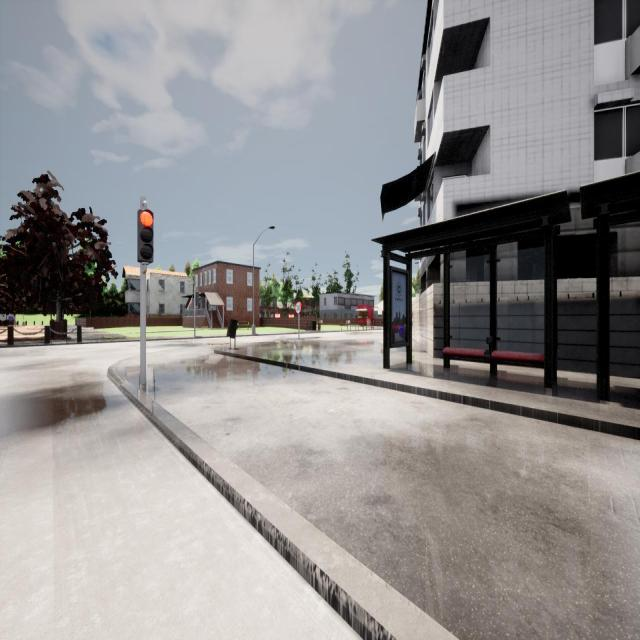Traffic_Signs: (295, 302, 303, 314)
traffic_light: (137, 210, 154, 262), (196, 292, 200, 306)
